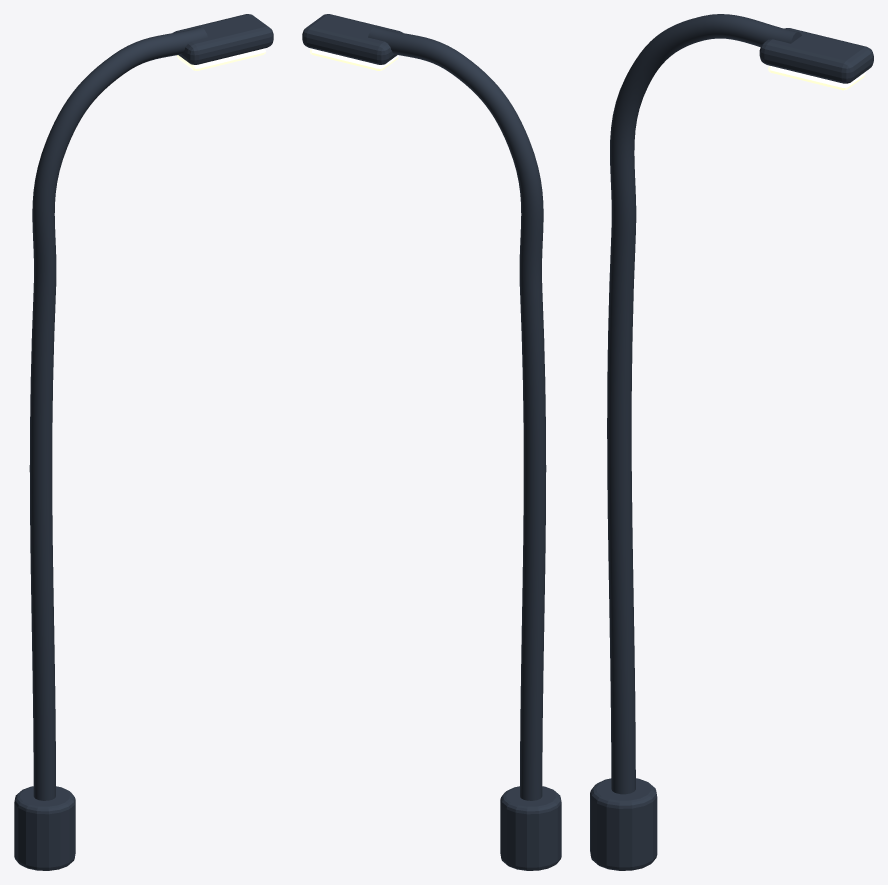
Rendered from lamp_post.glb.
3 views of the same model, side by side, from view 1: azimuth 30°, elevation 25°; view 2: azimuth 150°, elevation 25°; view 3: azimuth 330°, elevation 25° (orthographic). The views are drawn at different scales.
Parts seen in each view (by area): view 1: Post_pole, Post_base, Post_hood, Light_lens; view 2: Post_pole, Post_base, Post_hood, Light_lens; view 3: Post_pole, Post_base, Post_hood, Light_lens.
Part boxes in pixels (x1,y1,x2,y2): Post_pole: (29,27,207,800); Post_base: (14,786,75,870); Post_hood: (173,14,273,64); Light_lens: (177,48,265,70); Post_pole: (368,27,546,800); Post_base: (500,786,561,870); Post_hood: (302,14,402,64); Light_lens: (310,48,398,70); Post_pole: (607,14,801,794); Post_base: (590,778,657,870); Post_hood: (759,28,873,83); Light_lens: (768,65,865,90).
Bounding box in the file's own units: 2.02 × 6.24 × 0.44.
